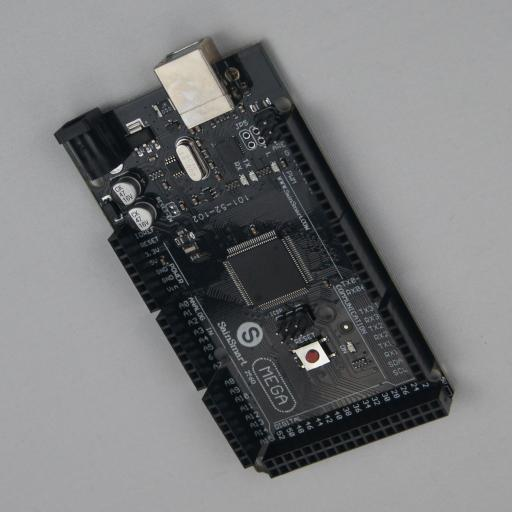Arduino Mega 2560 -Black-: (54, 37, 455, 478)
